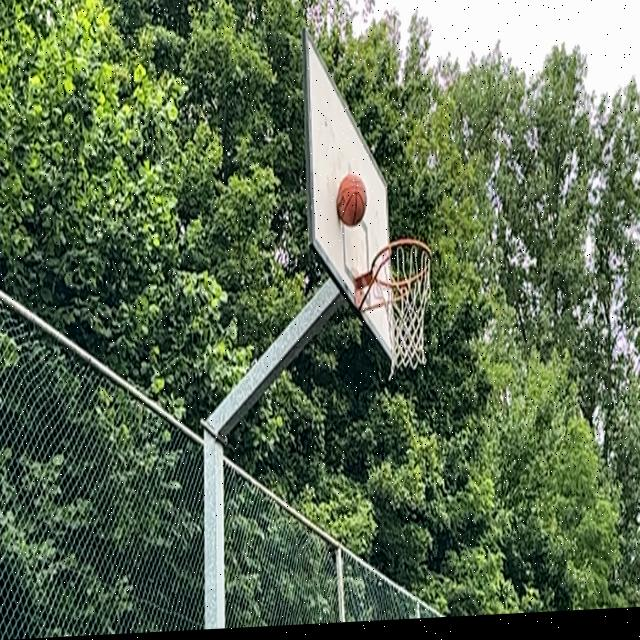rebound_hit: (336, 171, 368, 228)
